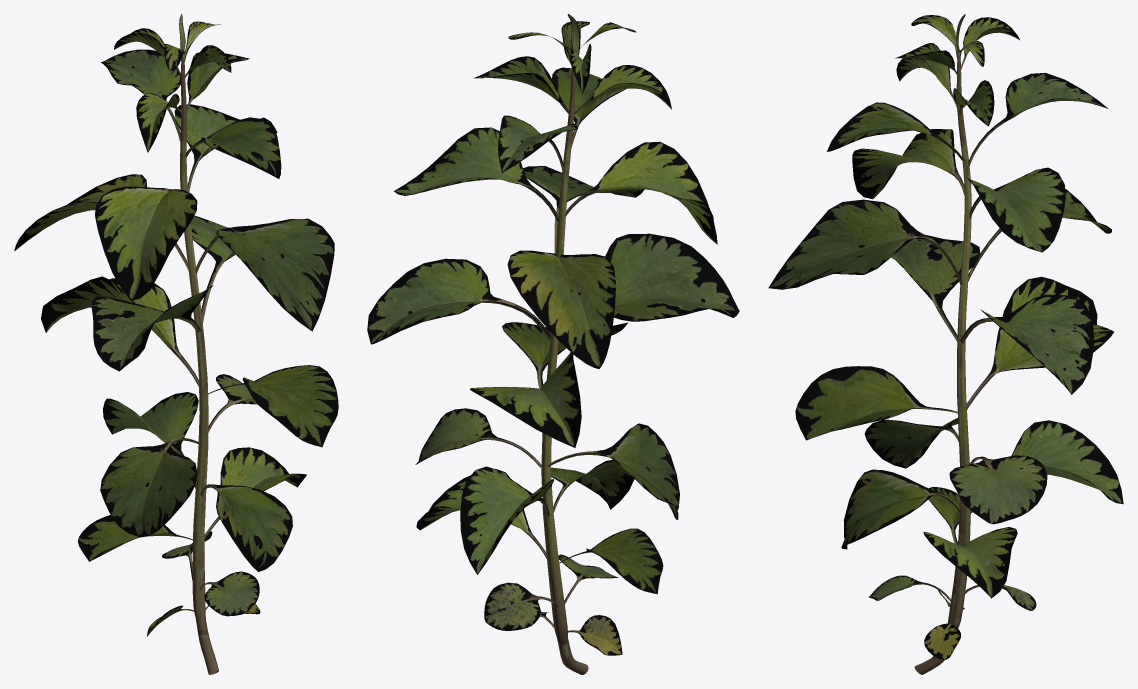
The picture shows the model from 3 angles, left to right: view 1: azimuth 30°, elevation 25°; view 2: azimuth 150°, elevation 25°; view 3: azimuth 270°, elevation 25°; orthographic projection. The views are drawn at different scales.
Parts seen in each view (by area): view 1: nettle_plant_tall_b_LOD0; view 2: nettle_plant_tall_b_LOD0; view 3: nettle_plant_tall_b_LOD0.
Part boxes in pixels (x1=…): nettle_plant_tall_b_LOD0: x1=14, y1=14, x2=338, y2=674; nettle_plant_tall_b_LOD0: x1=367, y1=14, x2=739, y2=674; nettle_plant_tall_b_LOD0: x1=768, y1=14, x2=1123, y2=674.
Size of the model in its own units: 0.0823 by 0.1927 by 0.0947.
Materials: 1 (1 with a texture image).
